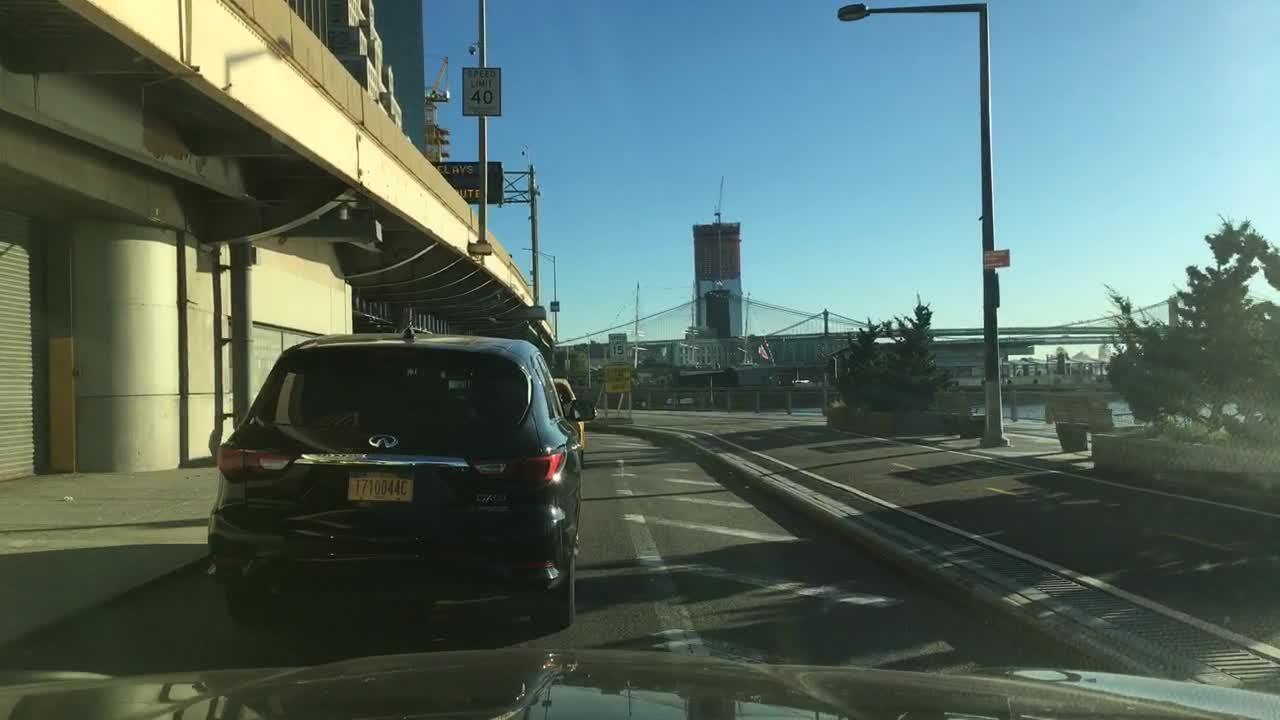Infiniti: (365, 432, 399, 452)
